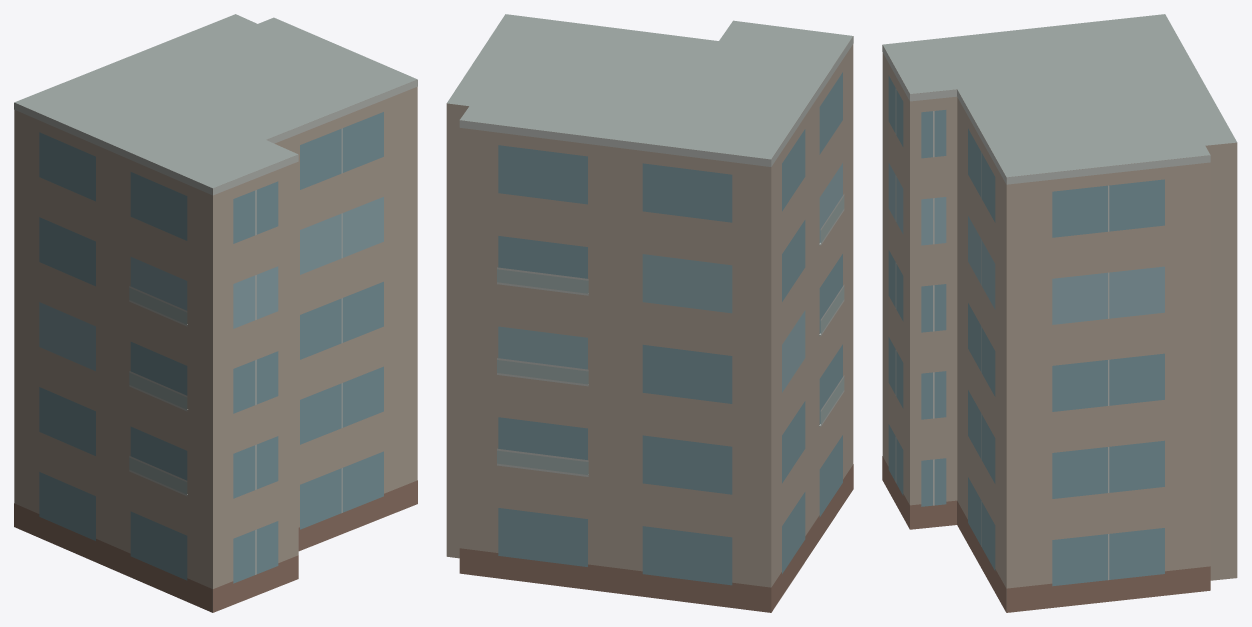
Rendered from survey-upis-32715884.glb.
3 views of the same model, side by side, from view 1: azimuth 30°, elevation 25°; view 2: azimuth 150°, elevation 25°; view 3: azimuth 270°, elevation 25° (orthographic). The views are drawn at different scales.
Visible parts, largest first — view 1: survey-upis-32715884.tmp; view 2: survey-upis-32715884.tmp; view 3: survey-upis-32715884.tmp.
Part boxes in pixels (x1,y1,x2,y2): survey-upis-32715884.tmp: (14, 14, 417, 612); survey-upis-32715884.tmp: (446, 14, 853, 612); survey-upis-32715884.tmp: (882, 14, 1237, 612).
Size of the model in its own units: 11.67 by 14.5 by 10.72.
